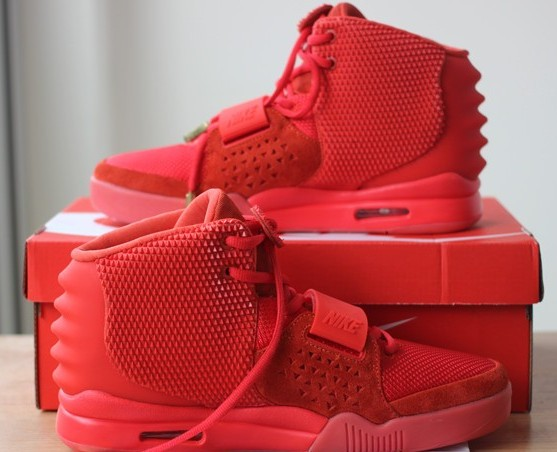Yeezy Red October: (40, 184, 531, 452), (83, 2, 494, 237)
